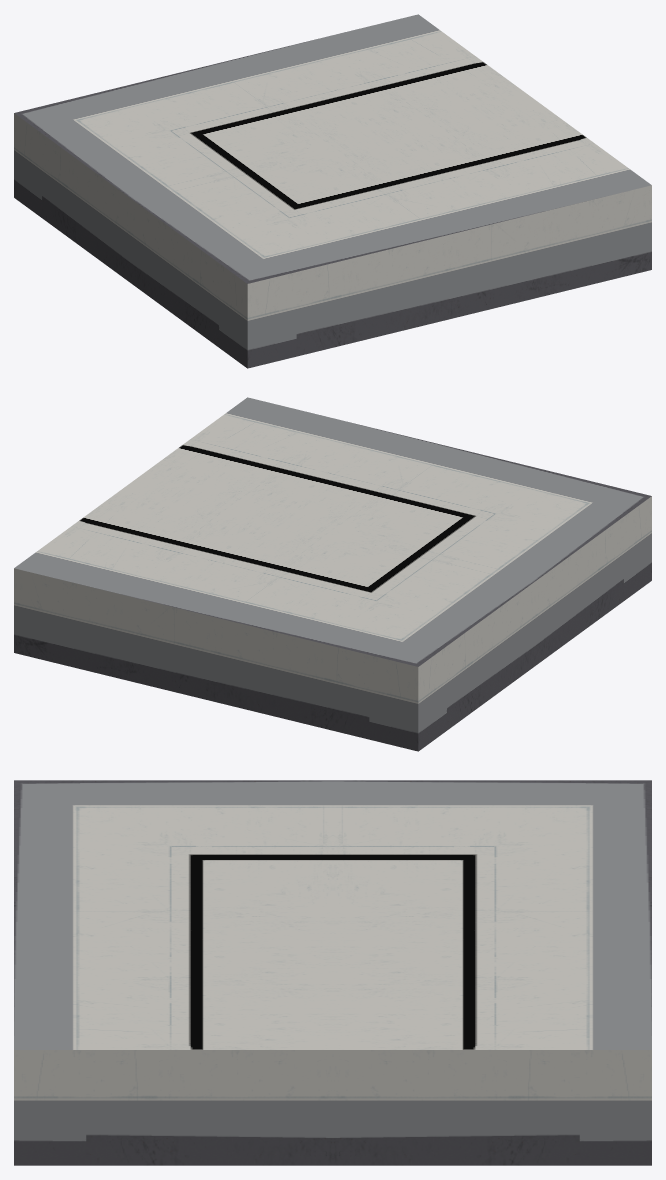
File: G_Env_Arch_Floor_Metal_07_End.fbx
3 renders of one model, top to bottom at view 1: azimuth 30°, elevation 25°; view 2: azimuth 150°, elevation 25°; view 3: azimuth 270°, elevation 25°, orthographic. The views are drawn at different scales.
Parts seen in each view (by area): view 1: G_Env_Arch_Floor_Metal_07_End; view 2: G_Env_Arch_Floor_Metal_07_End; view 3: G_Env_Arch_Floor_Metal_07_End.
Boxes of the visible parts, x1,y1,x2,y2 form: G_Env_Arch_Floor_Metal_07_End: (14,14,651,368); G_Env_Arch_Floor_Metal_07_End: (14,397,651,751); G_Env_Arch_Floor_Metal_07_End: (14,780,651,1165).
Bounding box in the file's own units: 500 × 100 × 500.
